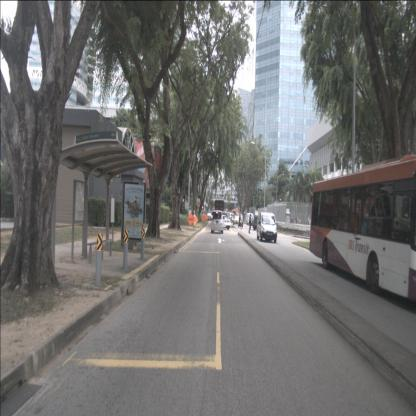human-pedestrian-adult: (248, 213, 252, 234)
vehicle-bus-rigid: (309, 153, 415, 303)
vehicle-car: (257, 212, 277, 243), (211, 210, 223, 233), (214, 215, 231, 230), (246, 212, 254, 226), (233, 215, 240, 225), (231, 216, 237, 224)
vehicle-motorcycle: (238, 213, 244, 228)
vehicle-truck: (250, 215, 268, 232), (215, 199, 224, 220)
